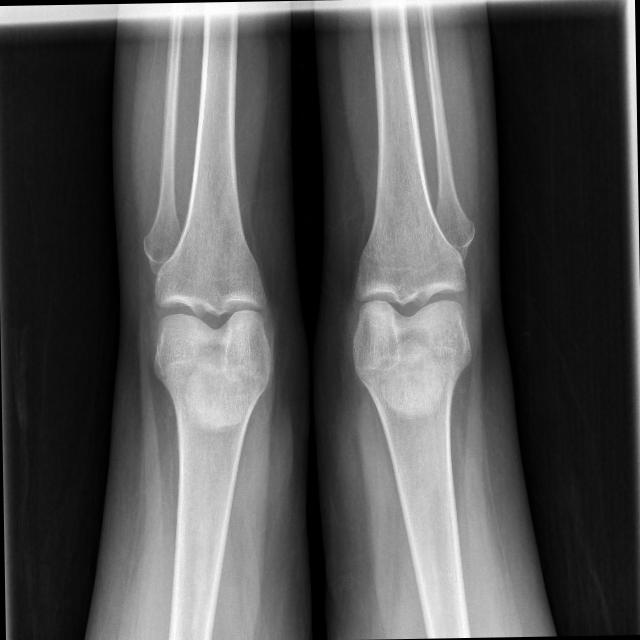Knee: (350, 254, 474, 376), (150, 263, 272, 379)
